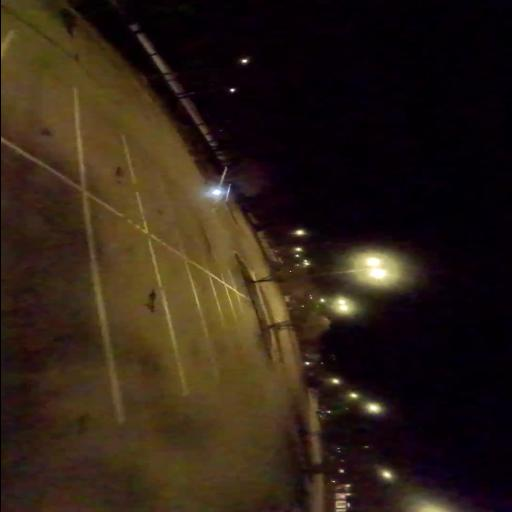uav: (204, 164, 232, 214)
